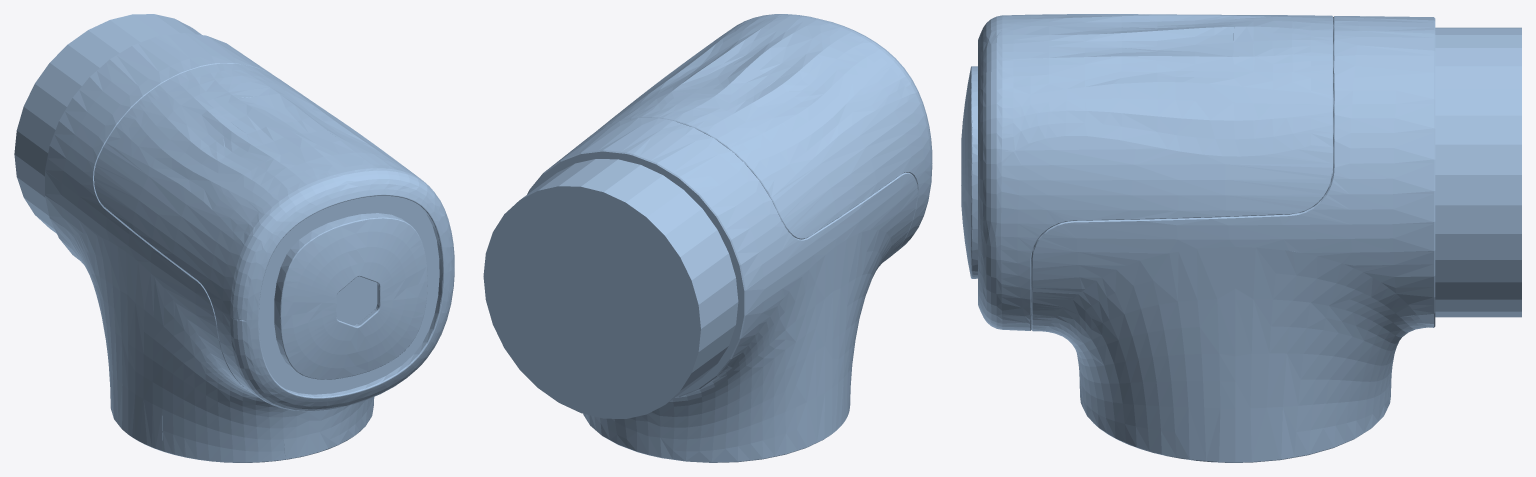
The picture shows the model from 3 angles, left to right: view 1: azimuth 30°, elevation 25°; view 2: azimuth 150°, elevation 25°; view 3: azimuth 270°, elevation 25°; orthographic projection. The views are drawn at different scales.
Parts seen in each view (by area): view 1: Link5; view 2: Link5; view 3: Link5.
Part boxes in pixels (x1=…): Link5: x1=14, y1=14, x2=454, y2=462; Link5: x1=483, y1=14, x2=932, y2=462; Link5: x1=961, y1=14, x2=1521, y2=462.
Size of the model in its own units: 0.0715 by 0.1263 by 0.0914.
